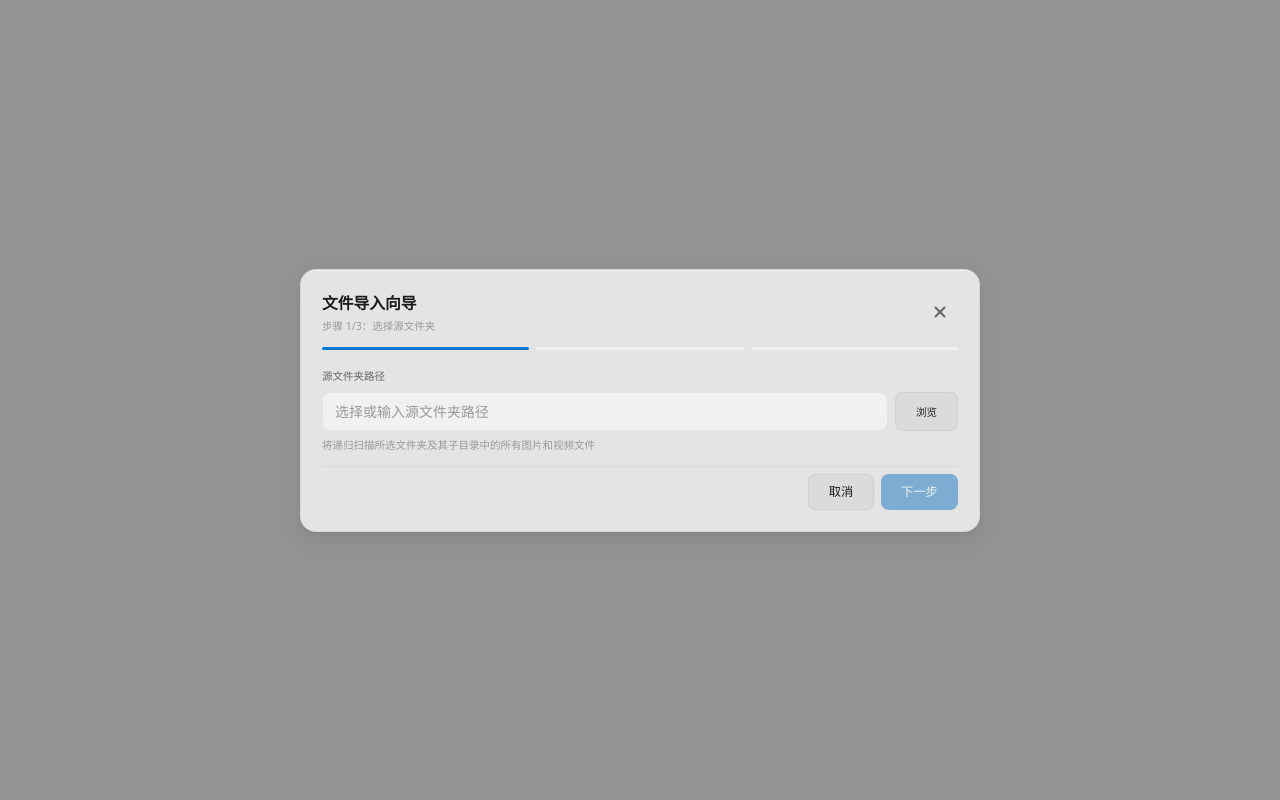
Test case: ImportWizard › 边界条件 › B3: 取消全选后仅勾选单个文件，按钮激活且摘要更新
What coordinates should you click on to do the following:
click the button "浏览"
I would click on:
 (926, 412)
Its box is [895,392,958,431].
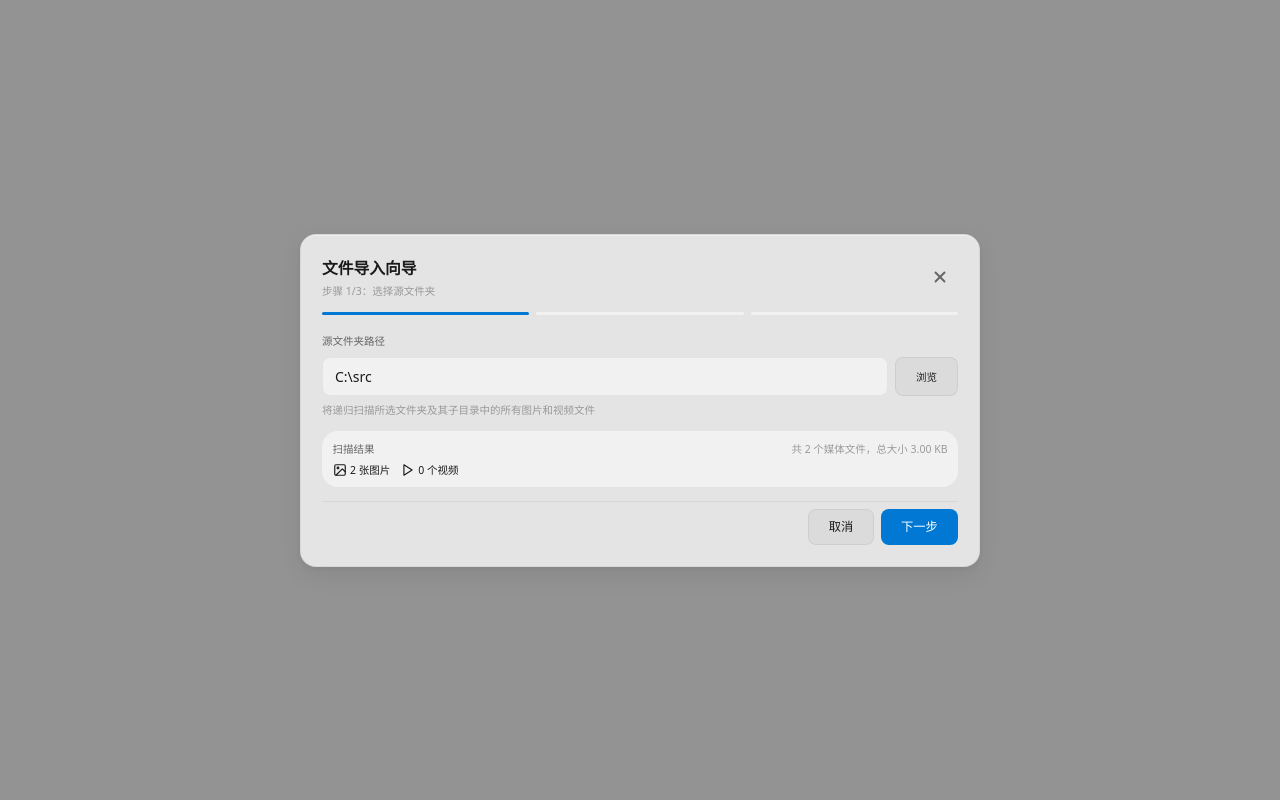
Check: the button "下一步" is enabled
What coordinates should you click on to do the following:
click the button "下一步"
I would click on:
 (920, 527)
Its box is [881,509,958,544].
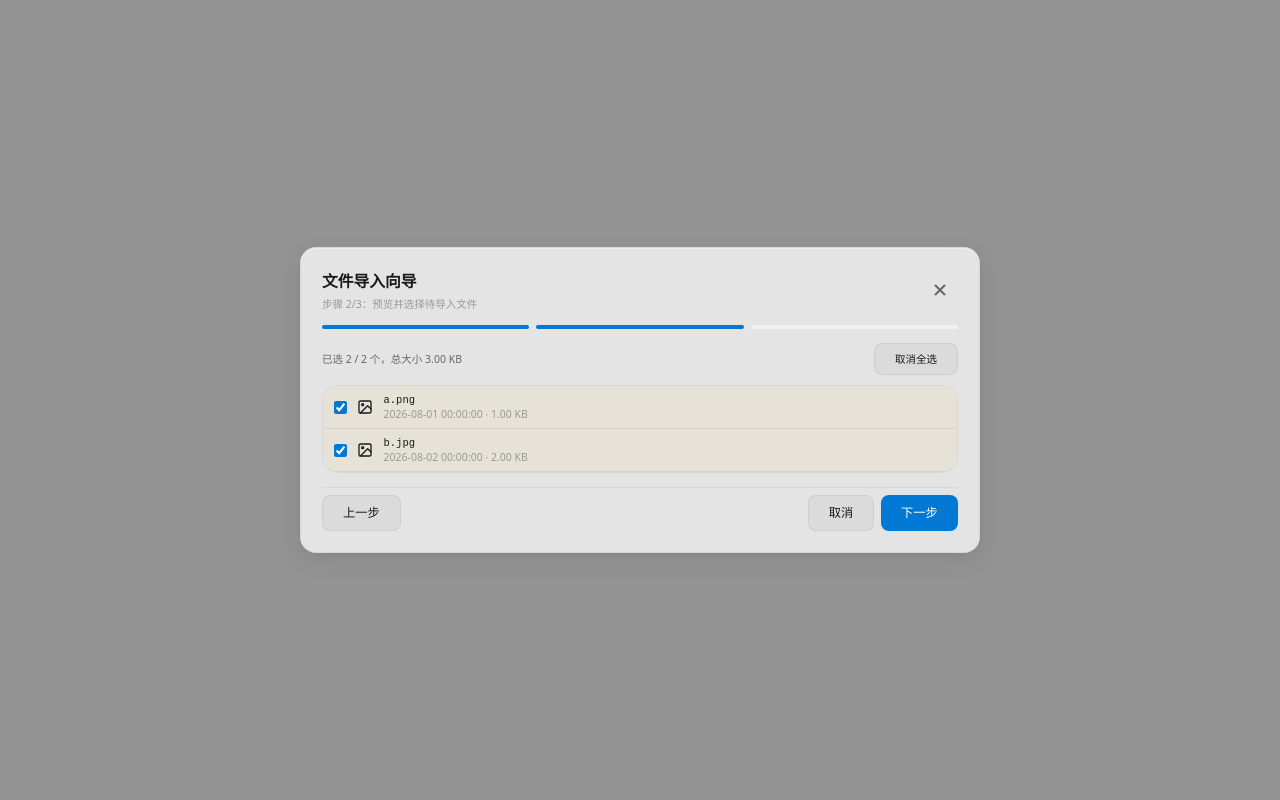
Check: the text "步骤 2/3：预览并选择待导入文件" is shown, box [322,297,477,311]
What coordinates should you click on to do the following:
click the button "取消全选"
I would click on:
 (916, 359)
Its box is [874,343,958,375].
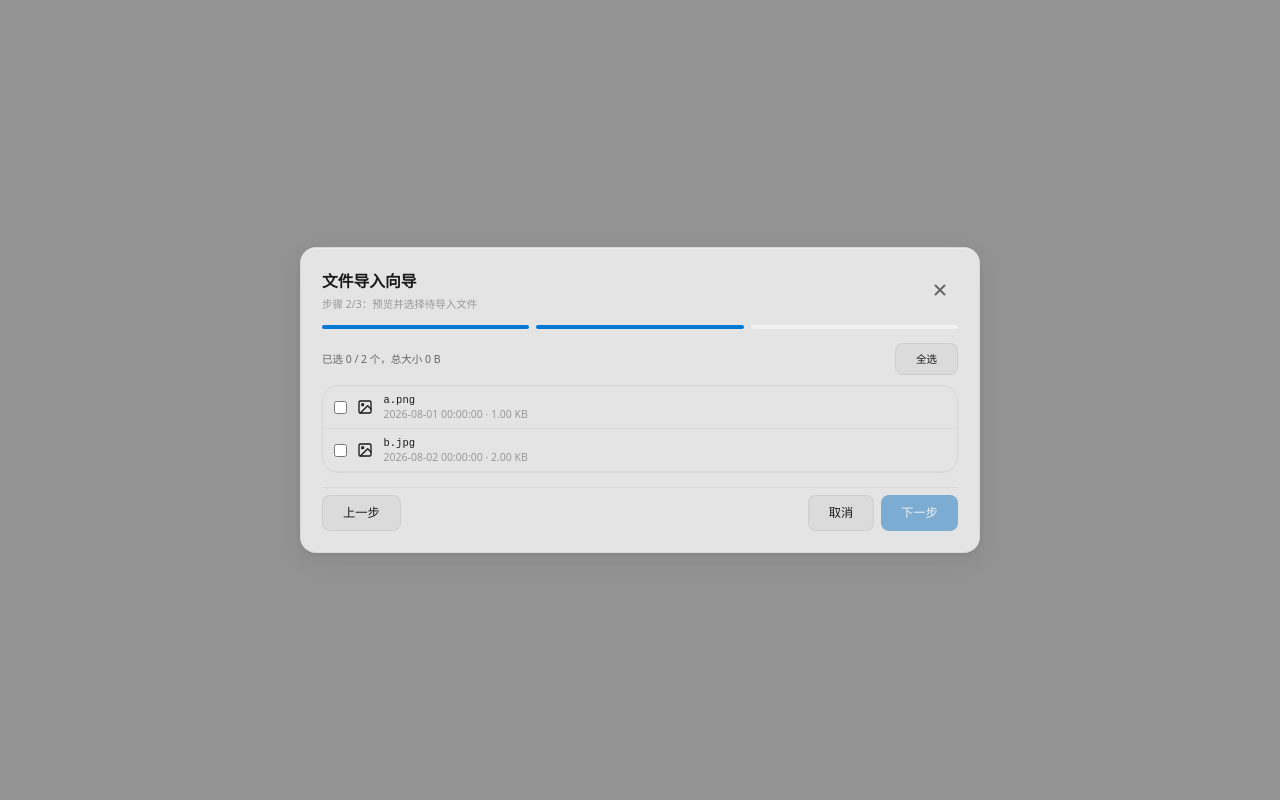
What coordinates should you click on to do the following:
click the text "a.png"
I would click on:
 (399, 400)
Its box is [384,394,415,406].
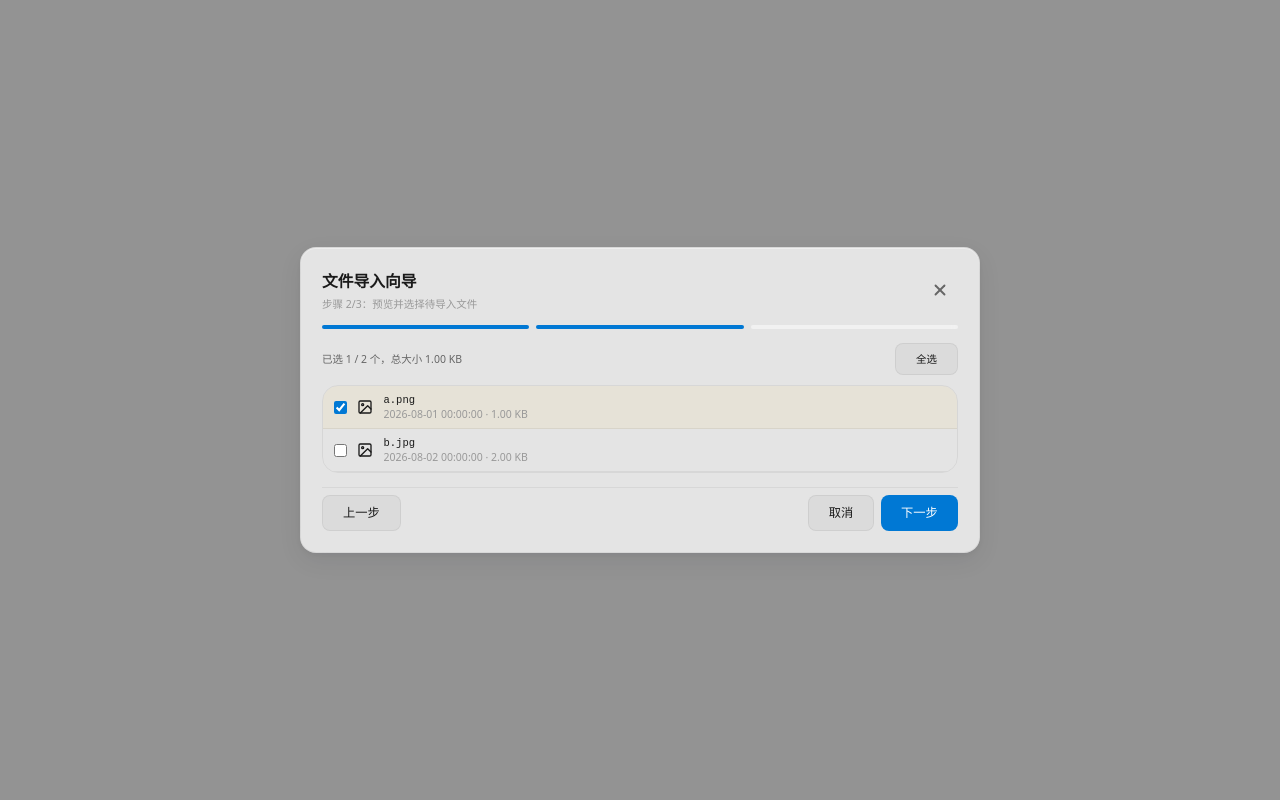
Check: the button "下一步" is enabled, box [881,495,958,531]
Check: the text "已选 1 / 2 个，总大小 1.00 KB" is shown, box [322,352,462,366]
